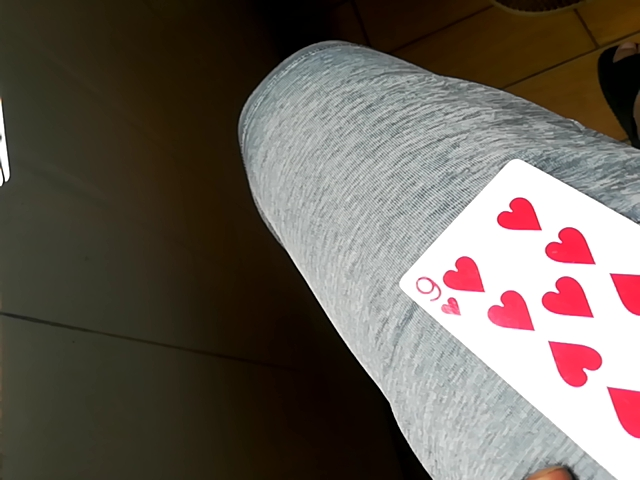hx 9: (401, 162, 640, 475)
